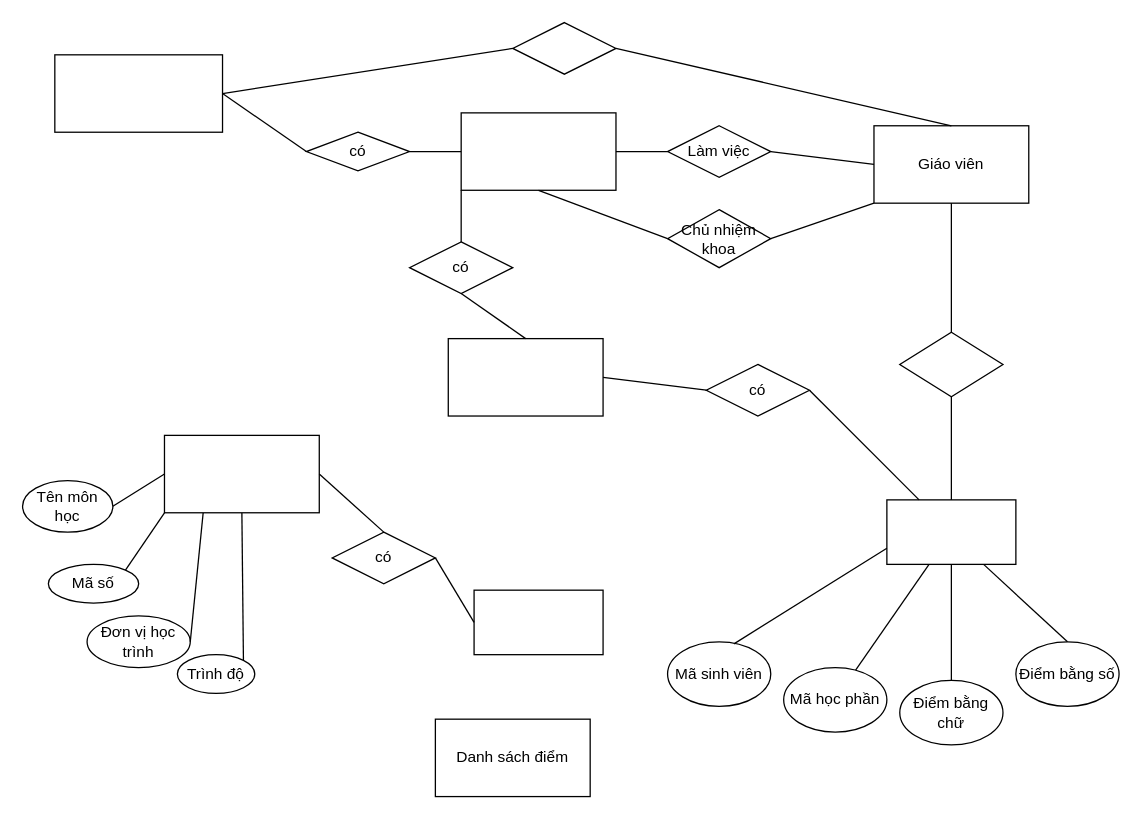
This 1142x819 diagram has some shape labels left out. The shapes that lost their labels are listed below. From the top down, each one's centre as x and y in pixels, then its label:
At point 563,47: "hiệu trưởng".
At point 138,93: "Trường".
At point 538,151: "Khoa".
At point 525,376: "Lớp".
At point 950,364: "quản lý".
At point 241,473: "Môn học".
At point 951,531: "Sinh viên".
At point 538,622: "Học phần".
